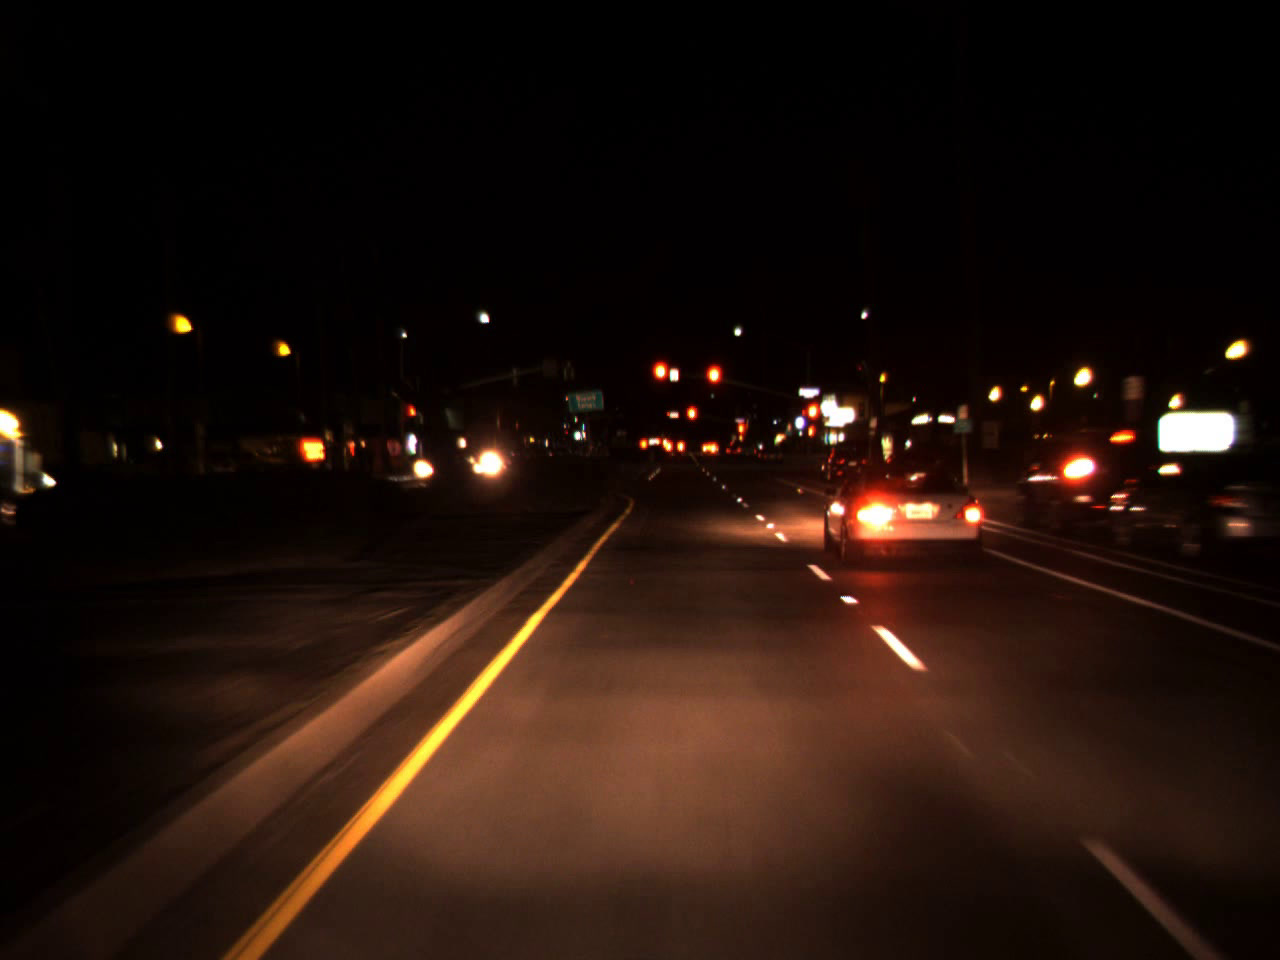stop: (650, 357, 671, 405), (703, 361, 724, 406), (803, 400, 822, 440), (684, 403, 699, 438), (407, 403, 417, 430), (737, 423, 744, 441)
